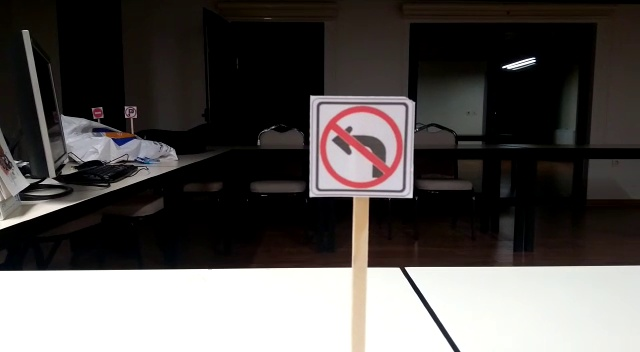sola_donulmez: (318, 103, 407, 195)
